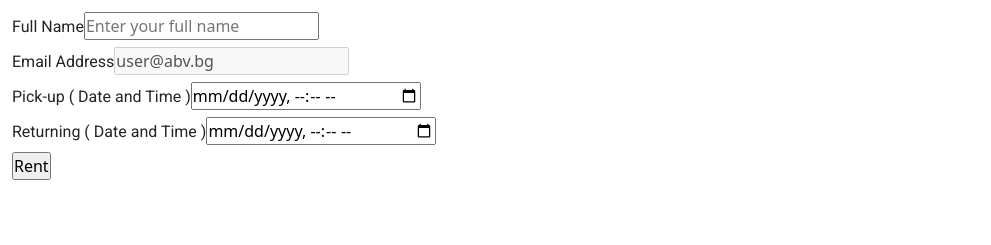
Test: RentForm Component › shows error messages for invalid returning date and time
This screenshot has width=991, height=245.
Type "John Smith" into the field named "fullName" at point(201, 26), box left=84, top=12, right=319, bottom=40
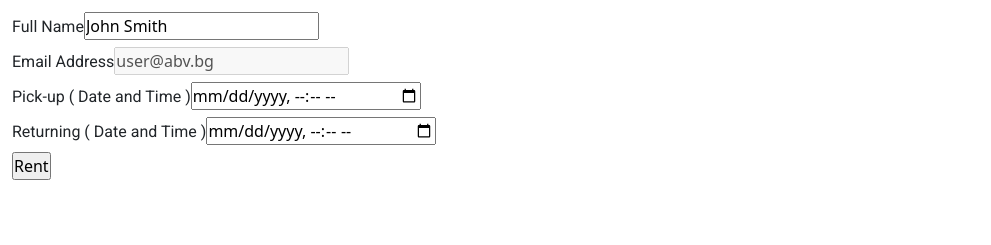
Type "2024-03-30T12:00" into the field named "pickUpDateAndTime" next to "Pick-up ( Date and Time )" at point(306, 96), box left=191, top=82, right=421, bottom=110
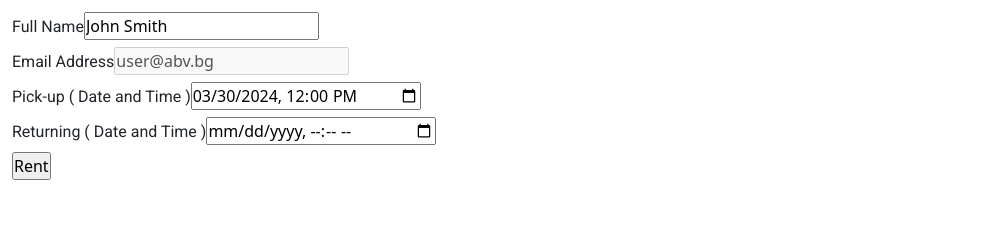
Type "2024-03-02T12:00" into the field named "returningDateAndTime" next to "Returning ( Date and Time )" at point(321, 131), box left=206, top=117, right=436, bottom=145
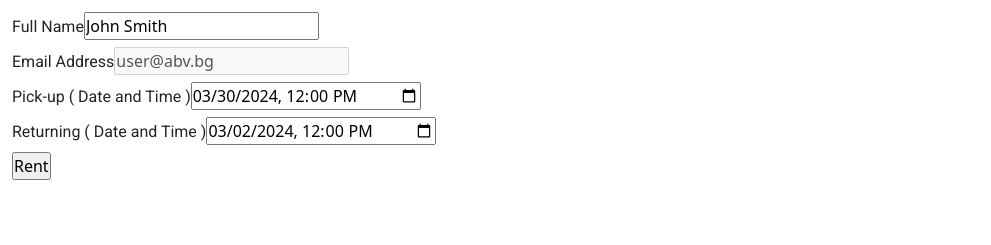
Click the button with class "rent-btn" at point(31, 166), box left=12, top=152, right=51, bottom=180
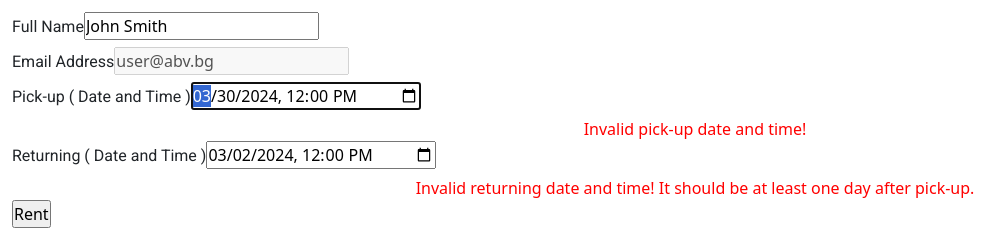
Now the text "Invalid returning date and time! It should be at least one day after pick-up." is shown, box left=416, top=177, right=974, bottom=199
